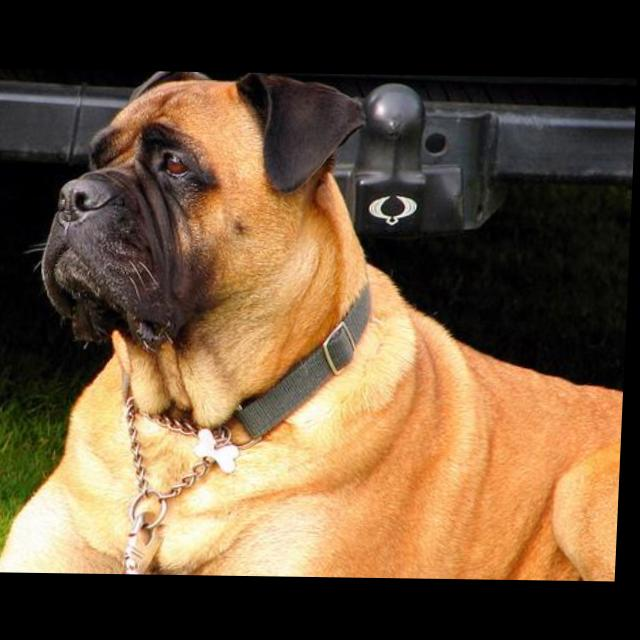bullmastiff: (1, 70, 639, 580)
